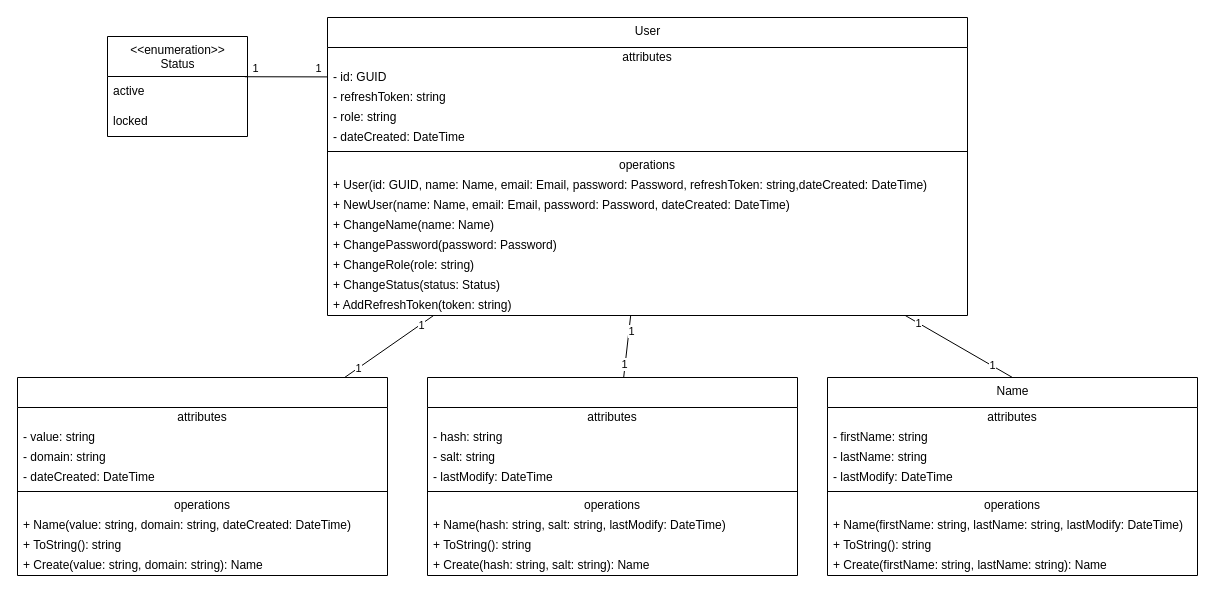
The diagram is 1215 pixels wide and 593 high, and some of its shapes have lost their labels. The shapes that lost their labels are listed below. From the top down, each one's box as (x1, y1, x2, y2) in pixels, then its label:
(16, 376, 388, 576): Email
(426, 376, 798, 576): Password
